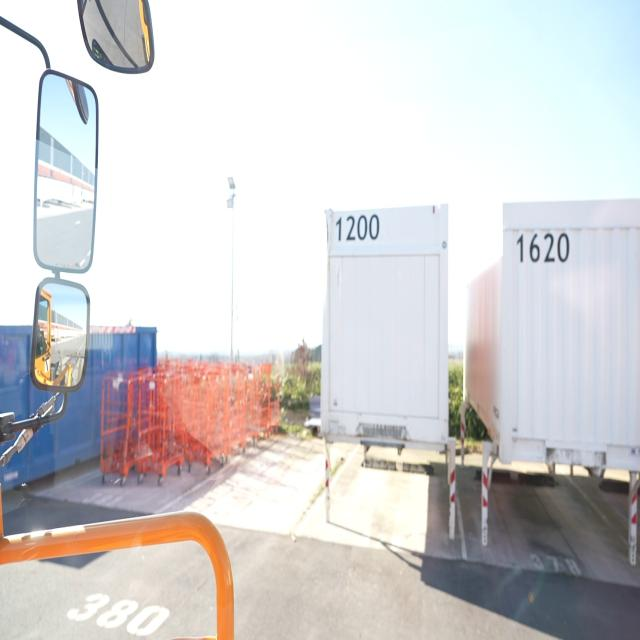Code: (516, 226, 572, 269), (334, 209, 382, 247)
